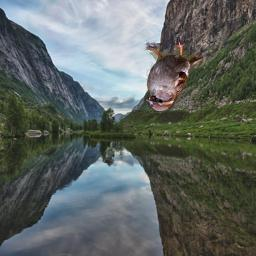Sparrow: (145, 38, 204, 113)
